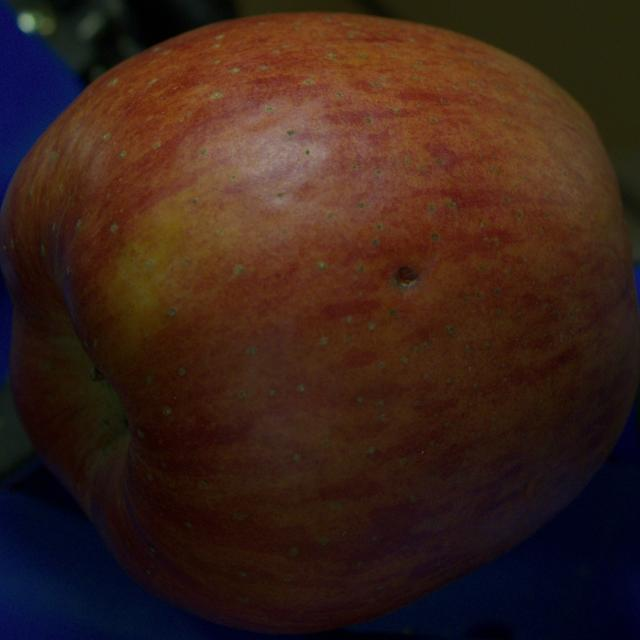apple: (0, 13, 639, 633)
pest: (394, 266, 418, 287)
